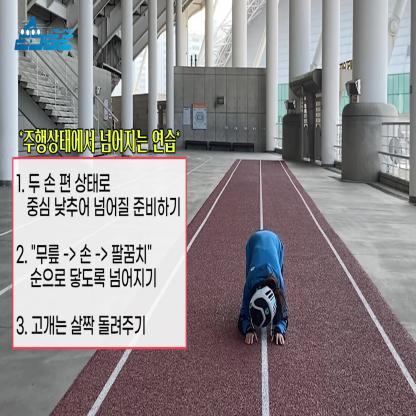Fall_Down: (237, 229, 290, 348)
